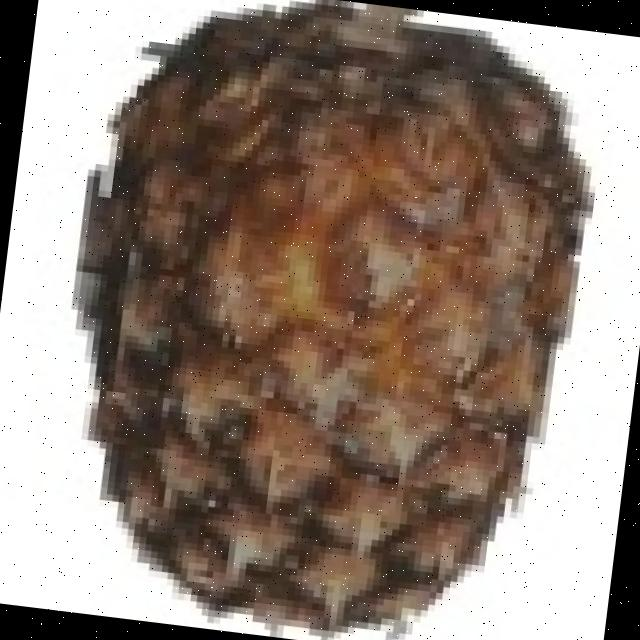pineapple: (93, 26, 597, 640)
